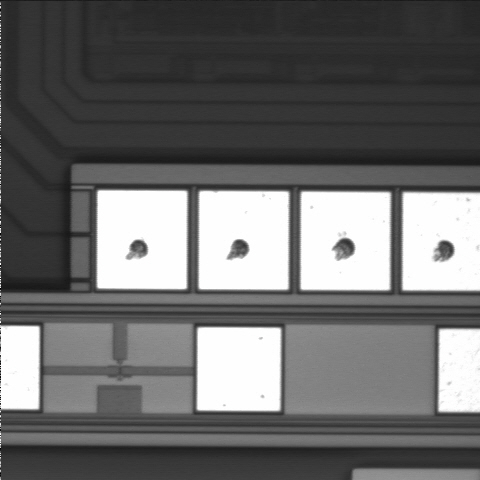pad: (97, 190, 187, 289), (199, 191, 289, 290), (301, 192, 390, 290), (197, 327, 281, 411)
